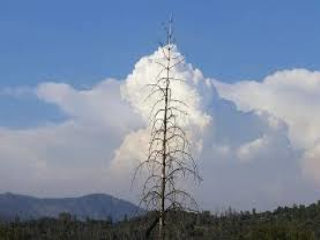smoke: (110, 41, 221, 199)
